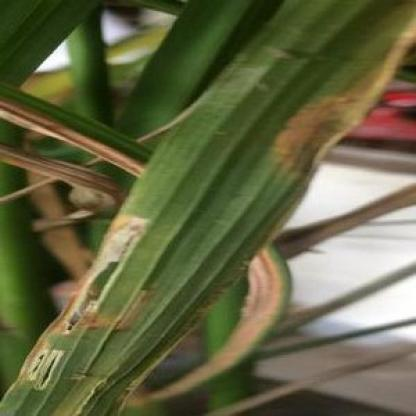Blight: (19, 202, 167, 392)
